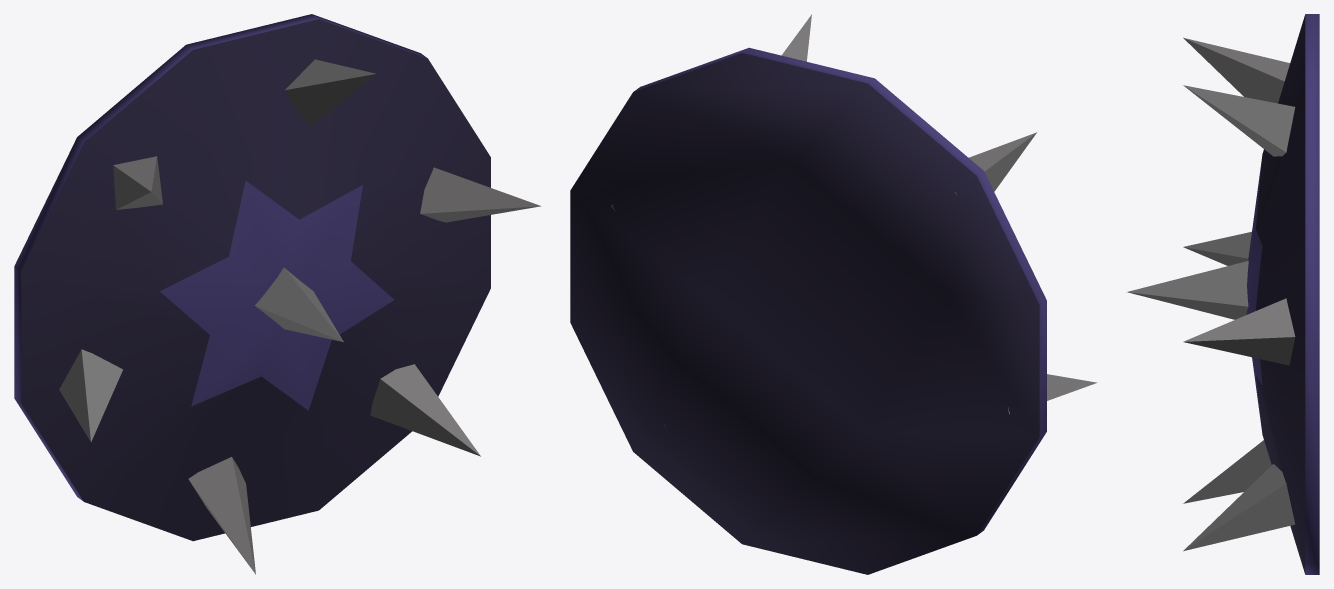
The model's file is lantern-shield.glb.
3 views of the same model, side by side, from view 1: azimuth 30°, elevation 25°; view 2: azimuth 150°, elevation 25°; view 3: azimuth 270°, elevation 25° (orthographic).
Visible parts, largest first — view 1: Shield - Lantern Shield - Clint Bellanger; view 2: Shield - Lantern Shield - Clint Bellanger; view 3: Shield - Lantern Shield - Clint Bellanger.
Boxes of the visible parts, bbox=[...] form: Shield - Lantern Shield - Clint Bellanger: bbox=[14, 14, 541, 574]; Shield - Lantern Shield - Clint Bellanger: bbox=[570, 14, 1097, 574]; Shield - Lantern Shield - Clint Bellanger: bbox=[1127, 14, 1319, 574].
Bounding box in the file's own units: 0.3512 × 0.3512 × 0.1233.
